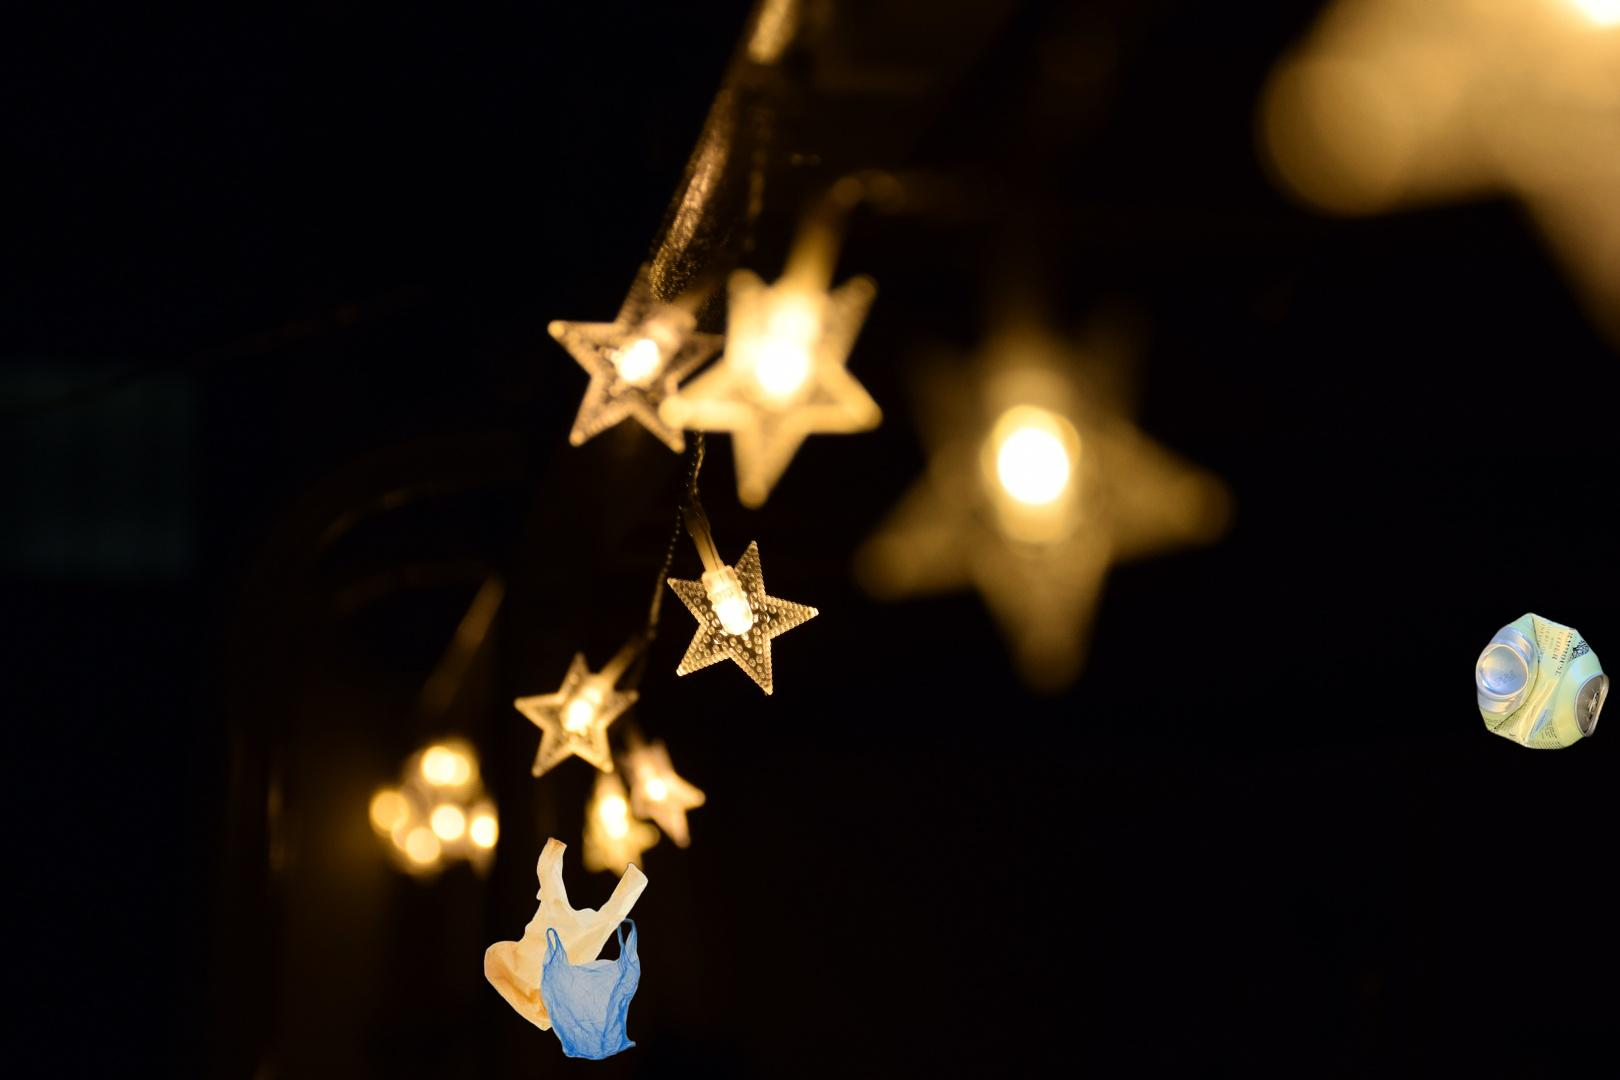metal-cans: (1471, 606, 1614, 756)
plastic-bag: (481, 834, 652, 1063)
